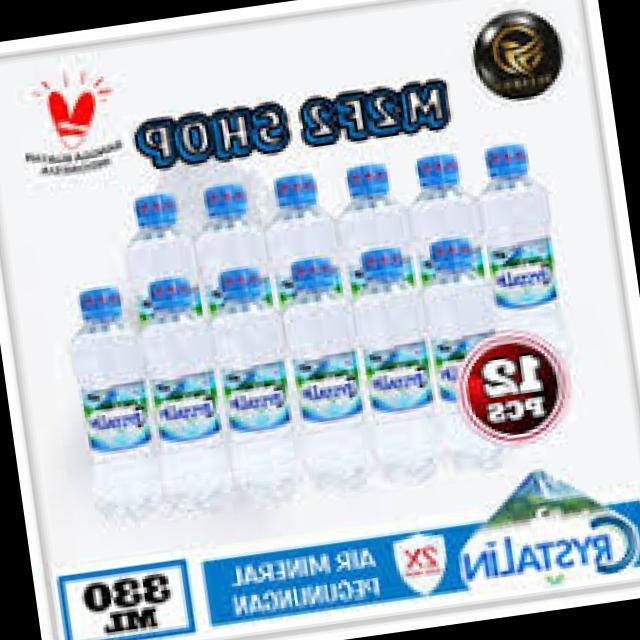good: (410, 230, 544, 487), (51, 280, 168, 529), (138, 270, 248, 530), (473, 143, 588, 383), (198, 262, 300, 520), (350, 242, 450, 497), (269, 255, 369, 506), (260, 163, 352, 350), (114, 182, 204, 352), (400, 158, 482, 340), (328, 158, 410, 340), (178, 174, 276, 318)
